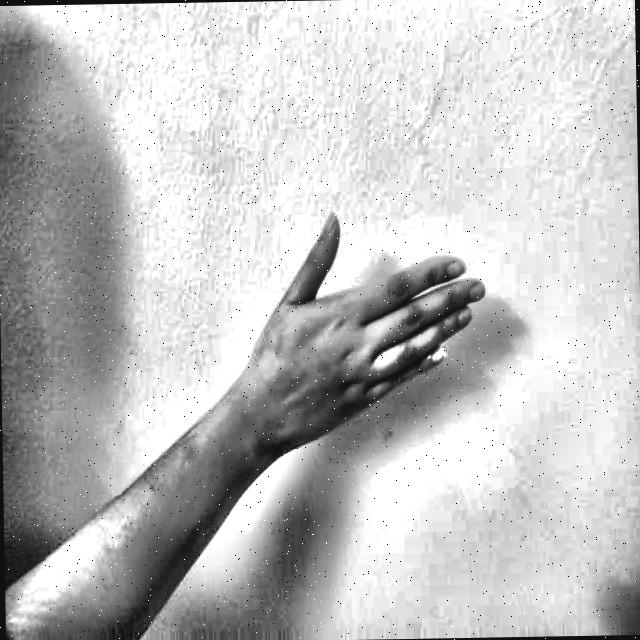Aa: (223, 208, 528, 498)
